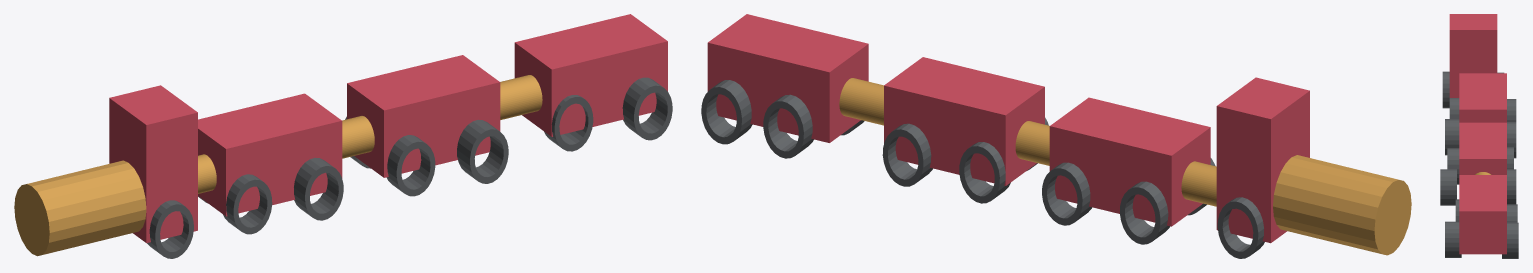
3 renders of one model, left to right at view 1: azimuth 30°, elevation 25°; view 2: azimuth 150°, elevation 25°; view 3: azimuth 270°, elevation 25°, orthographic. The views are drawn at different scales.
Parts seen in each view (by area): view 1: Mesh_Mesh_head_geo.001_lambert2SG.001; view 2: Mesh_Mesh_head_geo.001_lambert2SG.001; view 3: Mesh_Mesh_head_geo.001_lambert2SG.001.
Boxes of the visible parts, box(x1,y1,x2,y2) form: Mesh_Mesh_head_geo.001_lambert2SG.001: box(14, 14, 672, 258); Mesh_Mesh_head_geo.001_lambert2SG.001: box(701, 14, 1411, 258); Mesh_Mesh_head_geo.001_lambert2SG.001: box(1440, 14, 1518, 258).
Size of the model in its own units: 194 by 39.96 by 33.
